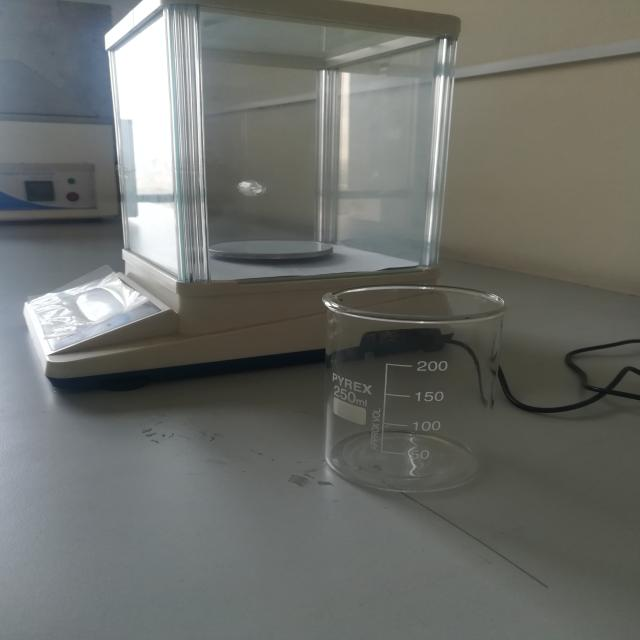Beaker: (295, 242, 542, 534)
